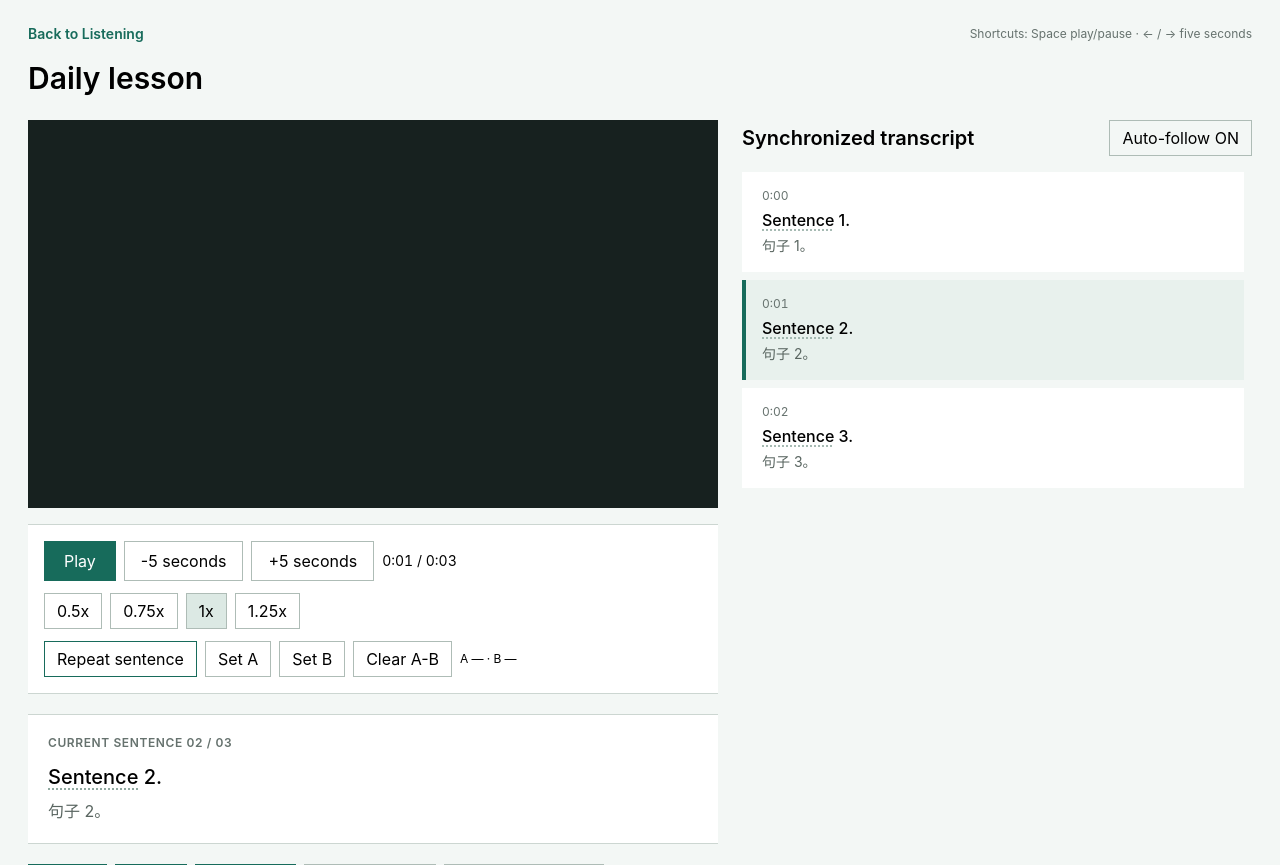
Test: Listening Workspace › saves the word from the exact clicked transcript row without changing playback
Expected: the button "Play" is enabled, [44,541,116,581]
Click the button with aria-label "Look up Sentence" at [798, 436], box [762,424,834,448]
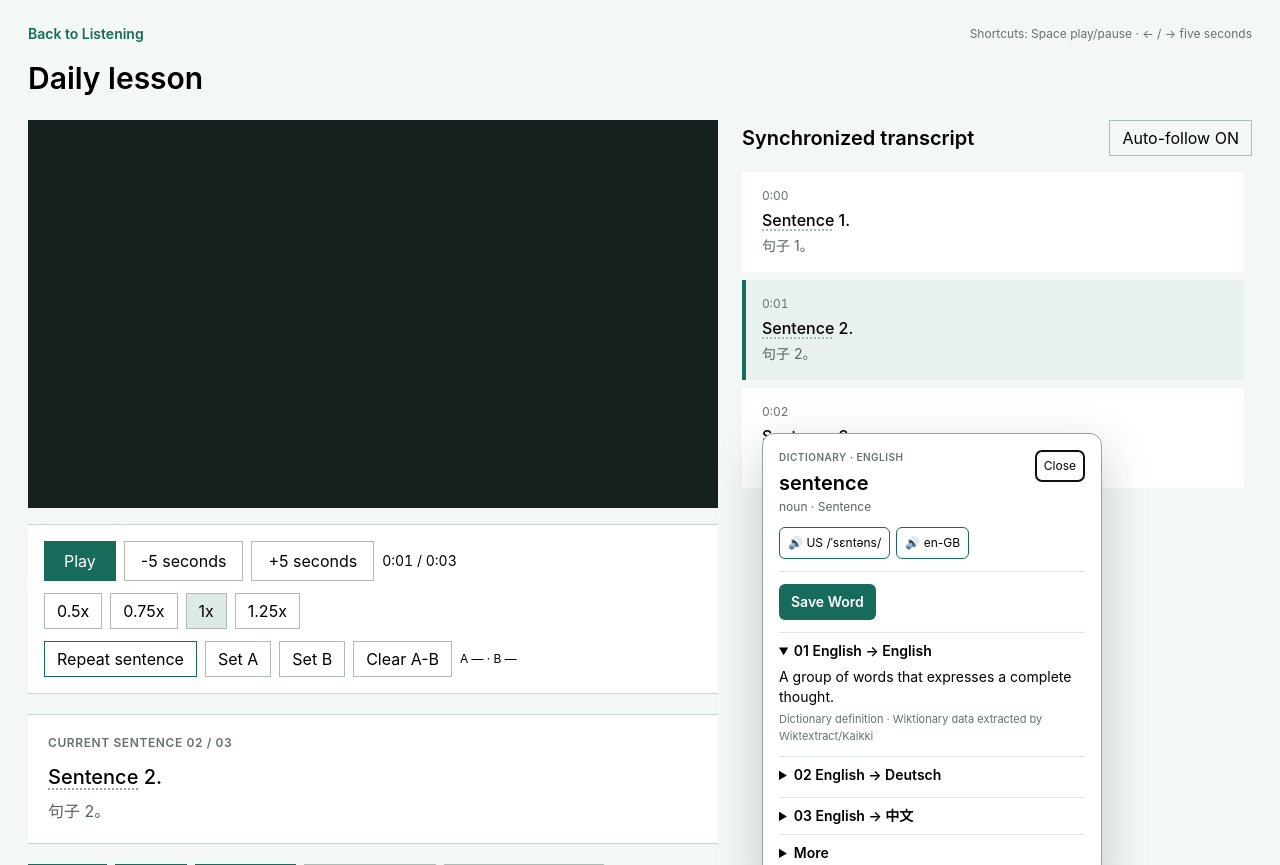
Click the button "Save Word" at [827, 602], box [779,584,876,620]
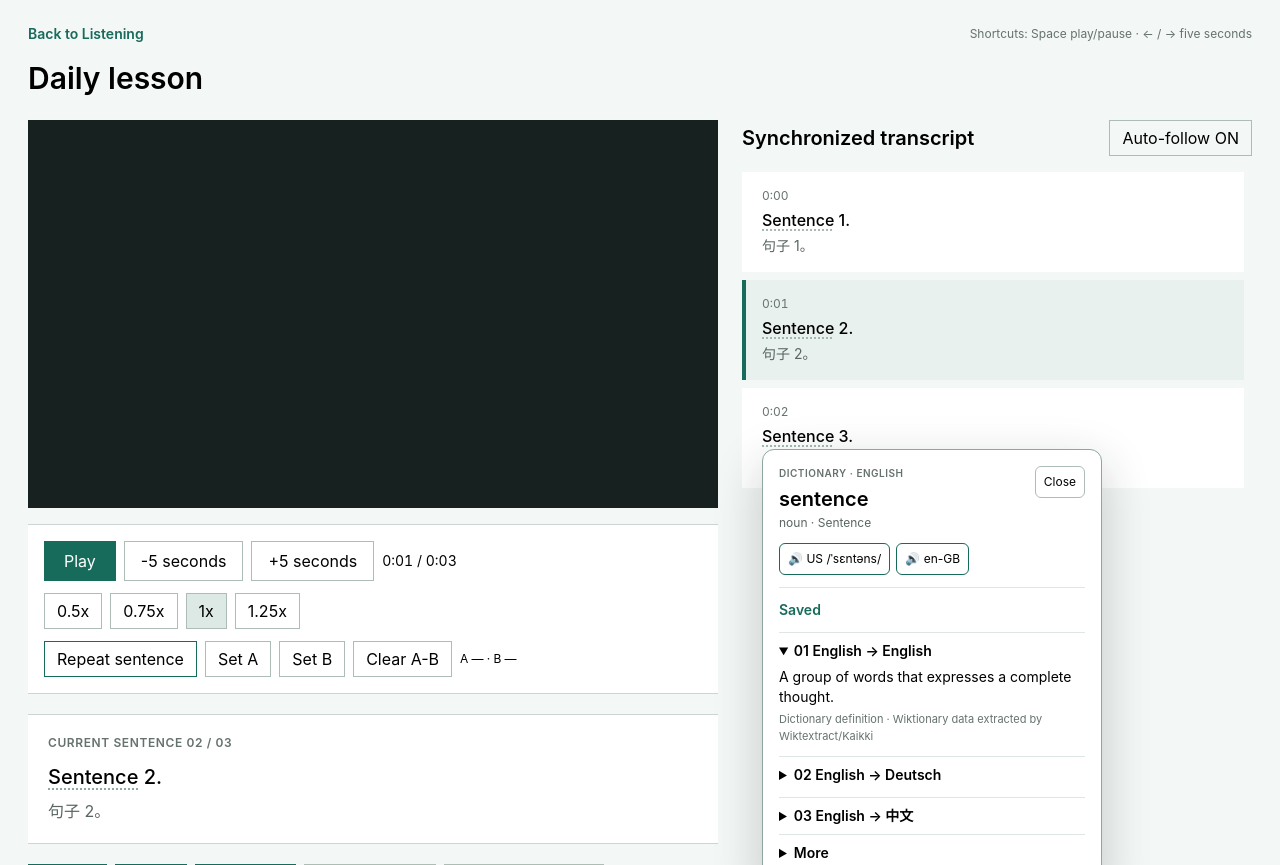
Expected: the text "Saved" is shown, [779,601,821,618]
